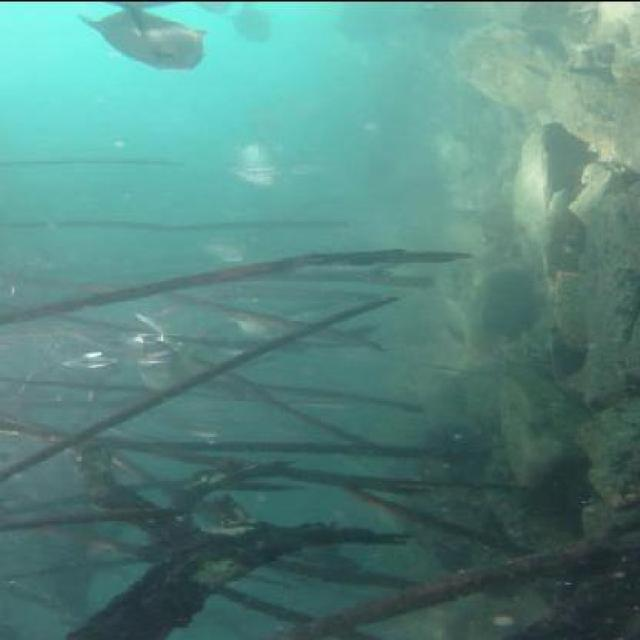Caranx_sexfasciatus_juvenile: (74, 1, 217, 77), (129, 313, 196, 387), (113, 333, 190, 381), (56, 338, 126, 376), (194, 228, 268, 262), (222, 4, 281, 42), (224, 155, 287, 190), (173, 409, 232, 442), (224, 137, 282, 168), (187, 0, 238, 18)
